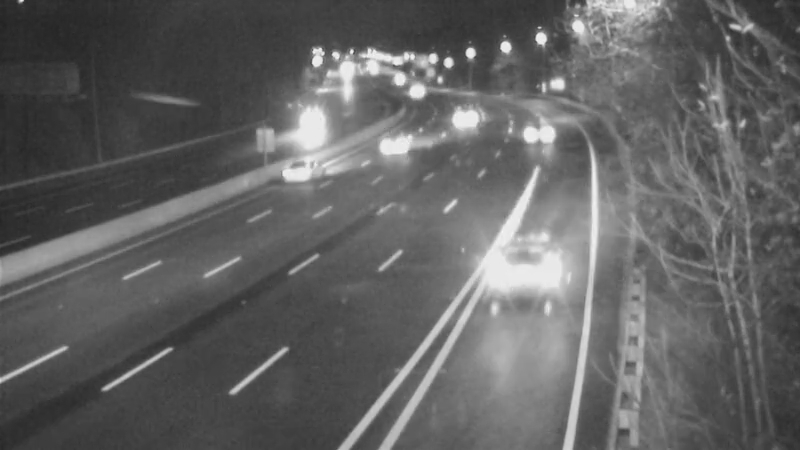vehicle: (262, 131, 342, 211), (476, 248, 556, 328), (385, 64, 435, 114), (432, 91, 482, 141), (510, 111, 560, 161), (375, 119, 425, 169), (281, 102, 331, 152)
